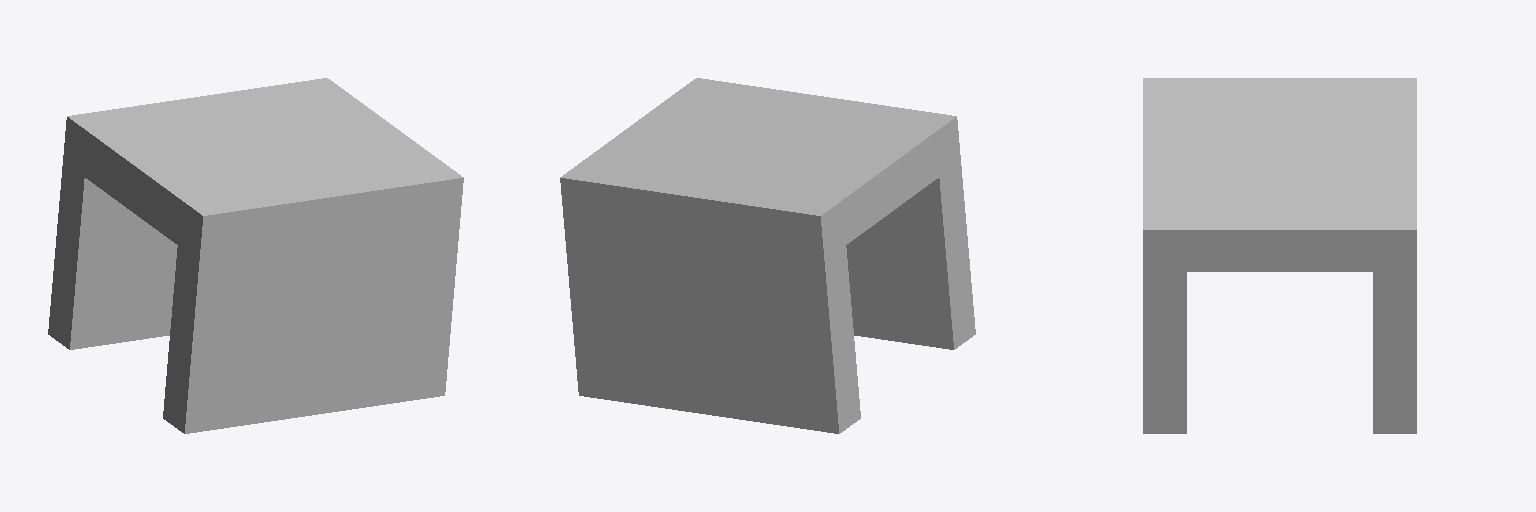
The model's file is underFlower.obj.
3 renders of one model, left to right at view 1: azimuth 30°, elevation 25°; view 2: azimuth 150°, elevation 25°; view 3: azimuth 270°, elevation 25°, orthographic.
Visible parts, largest first — view 1: C_Ext002; view 2: C_Ext002; view 3: C_Ext002.
Part boxes in pixels (x1,y1,x2,y2): C_Ext002: (48, 78, 463, 433); C_Ext002: (560, 78, 975, 433); C_Ext002: (1143, 78, 1416, 433).
Bounding box in the file's own units: 10.34 × 8.44 × 8.76.